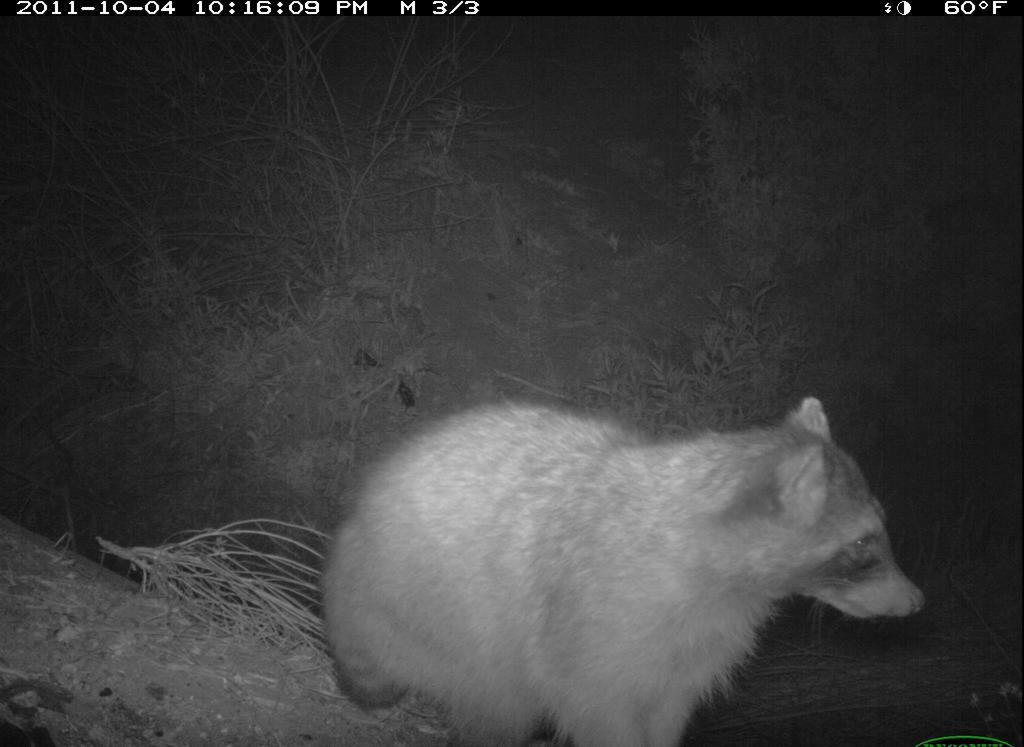raccoon: (304, 363, 949, 744)
